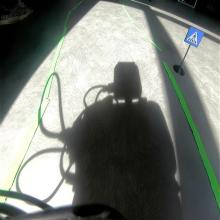crosswalk: (183, 25, 205, 47)
